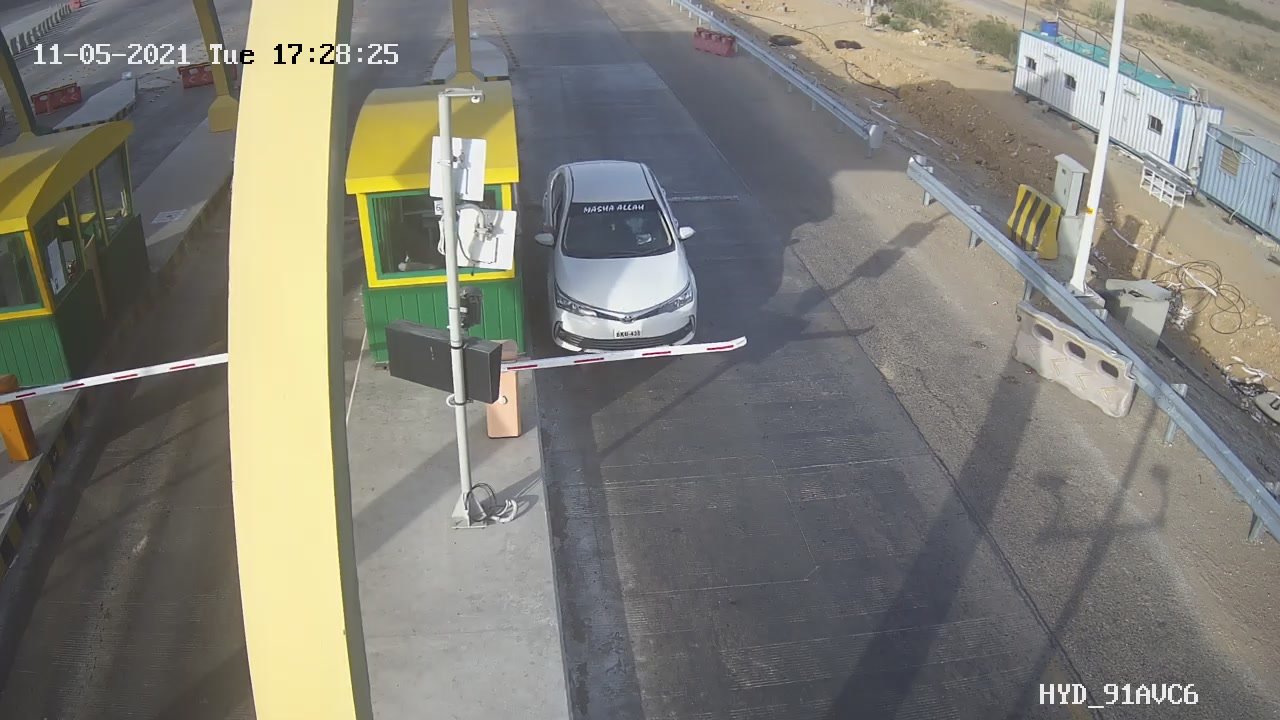F1: (517, 147, 722, 381)
